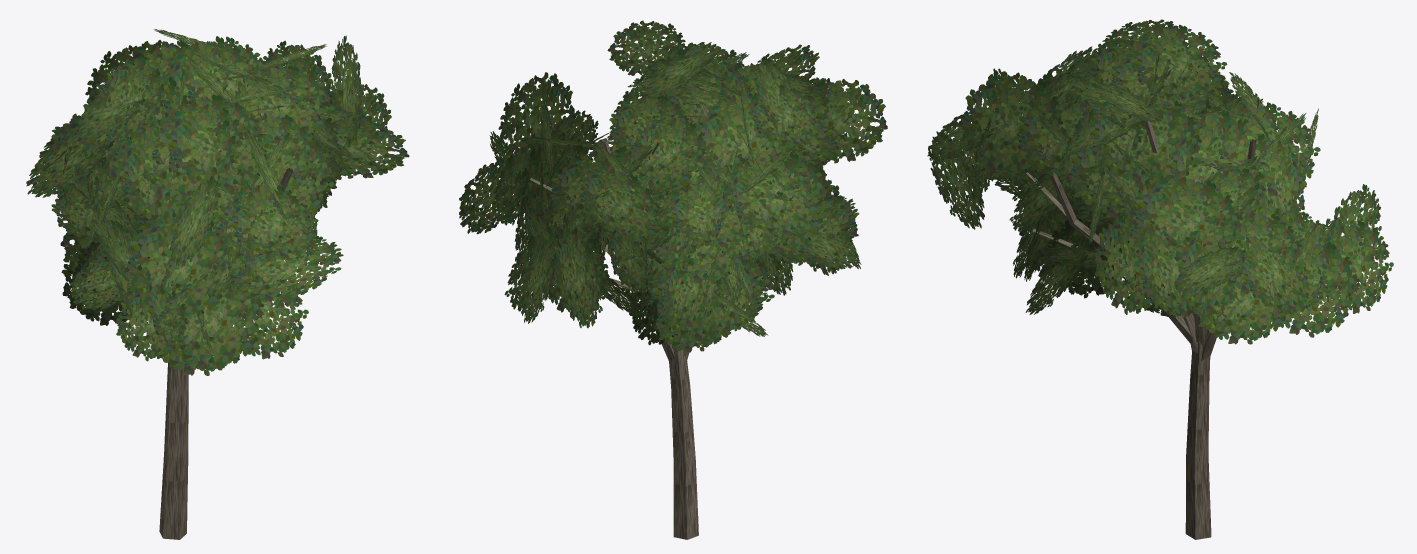
The model's file is CommonTree_1_LOD1.gltf.
The picture shows the model from 3 angles, left to right: view 1: azimuth 30°, elevation 25°; view 2: azimuth 150°, elevation 25°; view 3: azimuth 270°, elevation 25°; orthographic projection. The views are drawn at different scales.
Parts seen in each view (by area): view 1: CommonTree_1_LOD1; view 2: CommonTree_1_LOD1; view 3: CommonTree_1_LOD1.
Boxes of the visible parts, box(x1,y1,x2,y2) form: CommonTree_1_LOD1: box(26, 29, 409, 539); CommonTree_1_LOD1: box(459, 20, 887, 539); CommonTree_1_LOD1: box(927, 19, 1393, 539).
Bounding box in the file's own units: 14.34 × 18.71 × 16.35.
2 materials, 2 textured.
